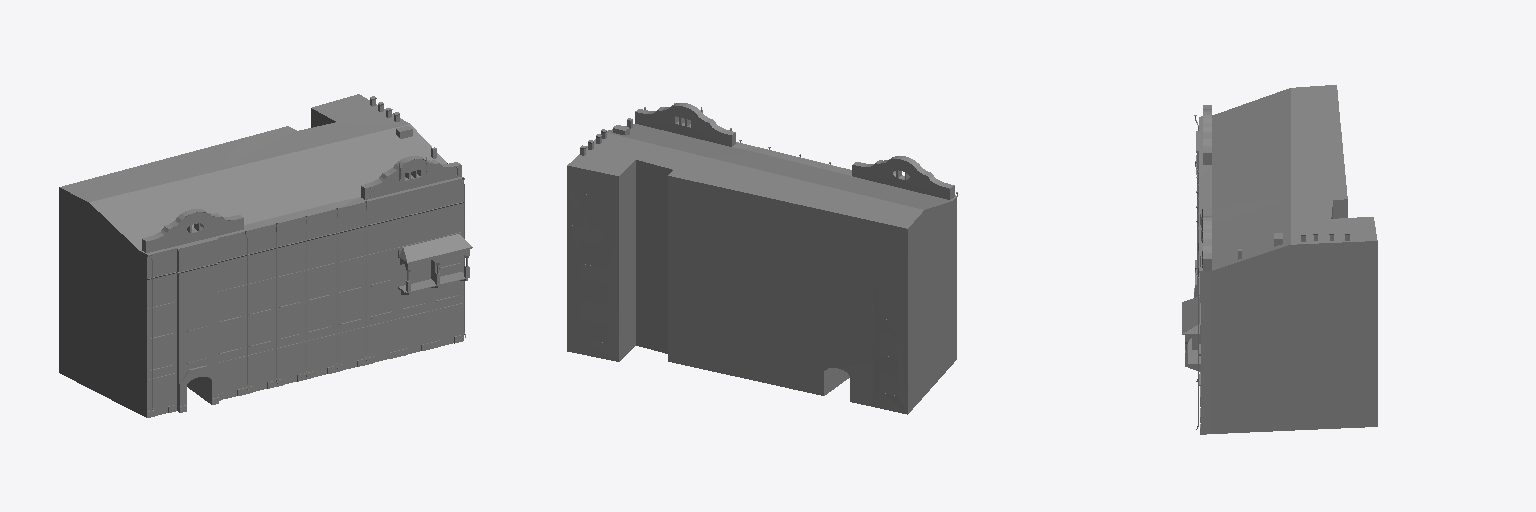
The model's file is House_4.obj.
The picture shows the model from 3 angles: view 1: azimuth 30°, elevation 25°; view 2: azimuth 150°, elevation 25°; view 3: azimuth 270°, elevation 25°; orthographic projection.
Size of the model in its own units: 4.08 by 2.24 by 2.05.